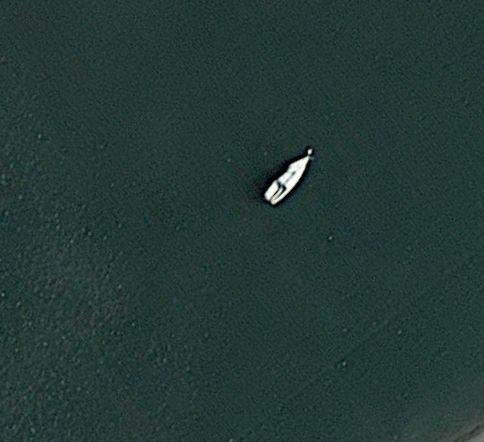Ships: (253, 142, 320, 207)
